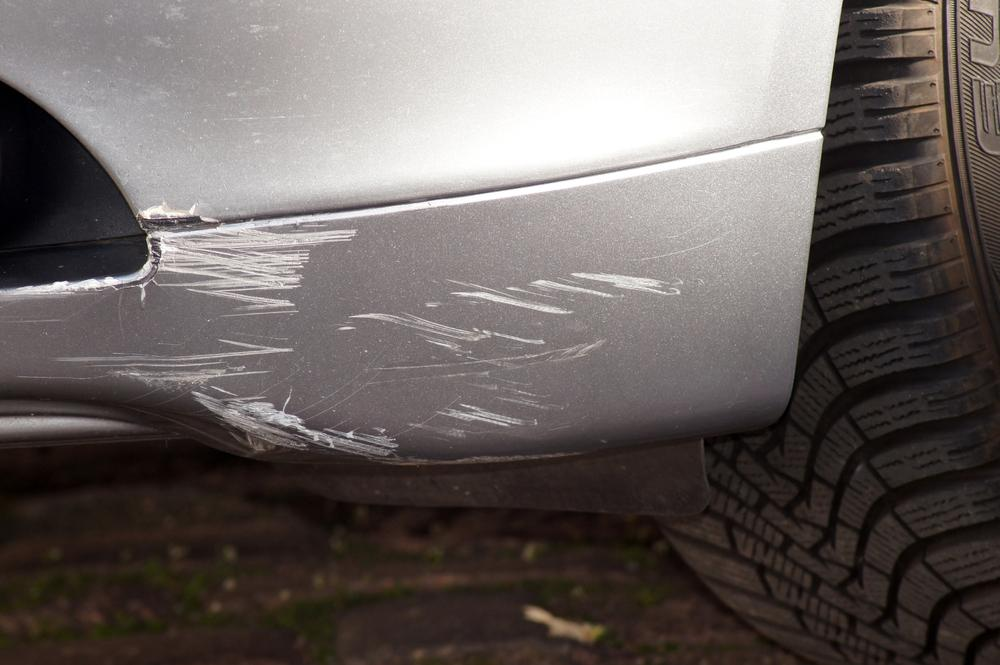scratch: (24, 217, 692, 467)
